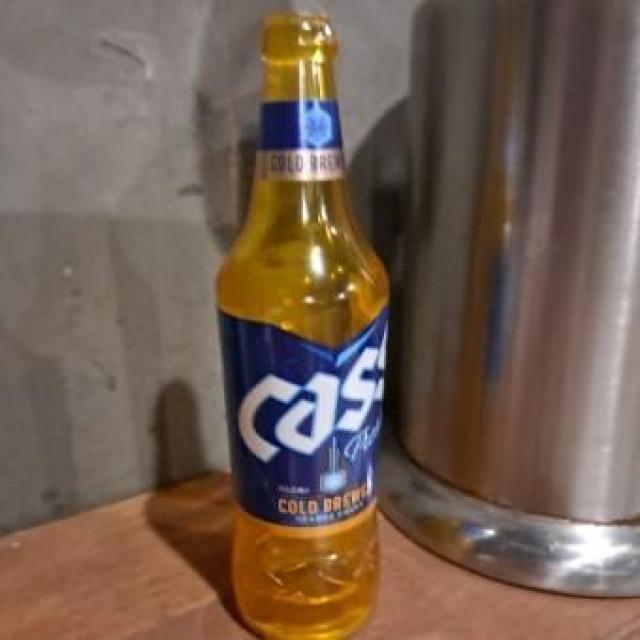beer-bottle: (216, 7, 410, 640)
